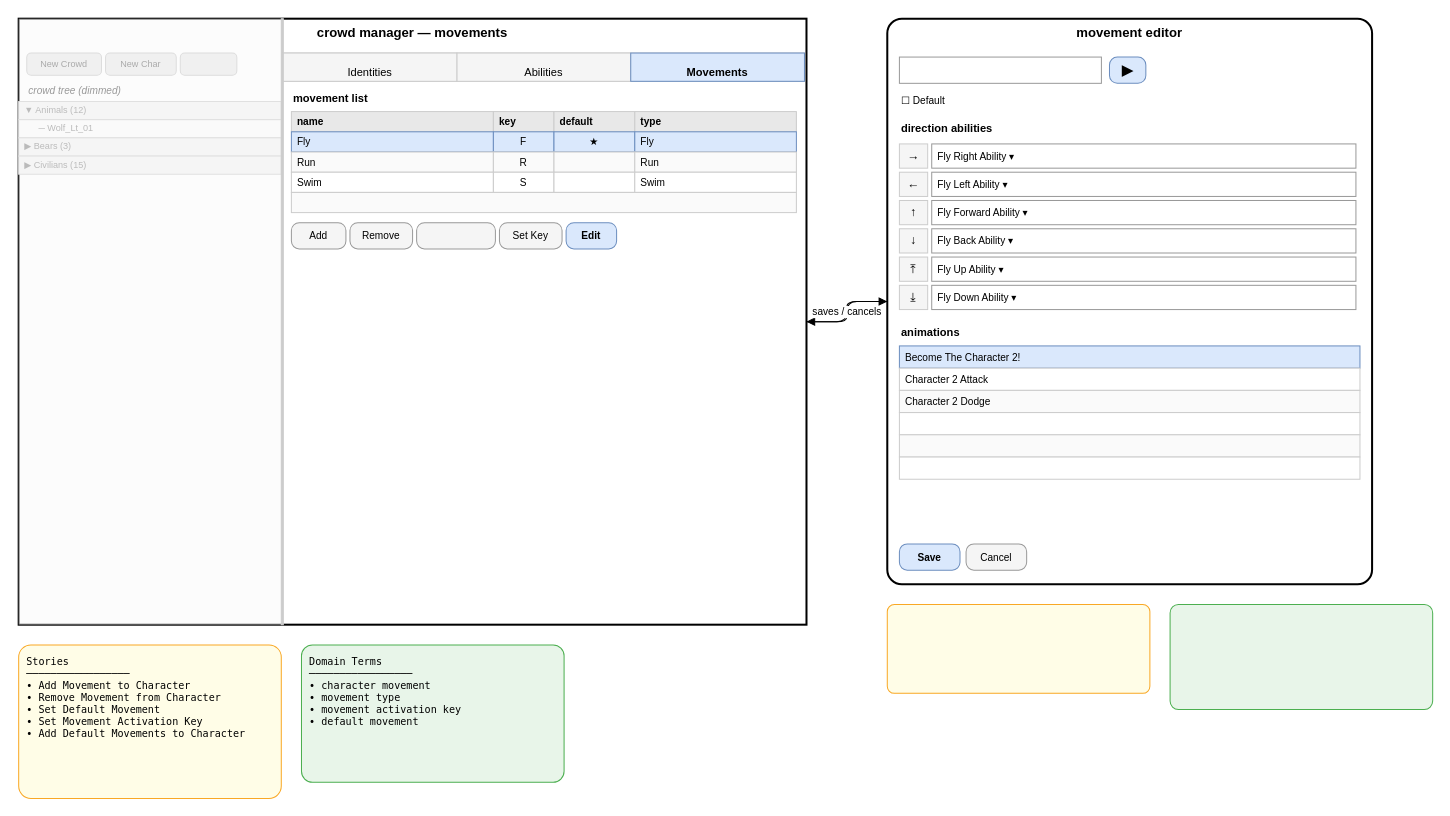
Image size: 1450x816. Some labels were removed from this diagram. Here are the shapes that lost their labels. From the top down, the centre of each, then its label:
the point at 208,63: Rename
the point at 999,69: Movement ▾
the point at 455,235: Set Default
the point at 1018,648: Stories ───────────────── • Edit Movement Parameters
the point at 1301,656: Domain Terms ───────────────── • movement parameters • distance limit
